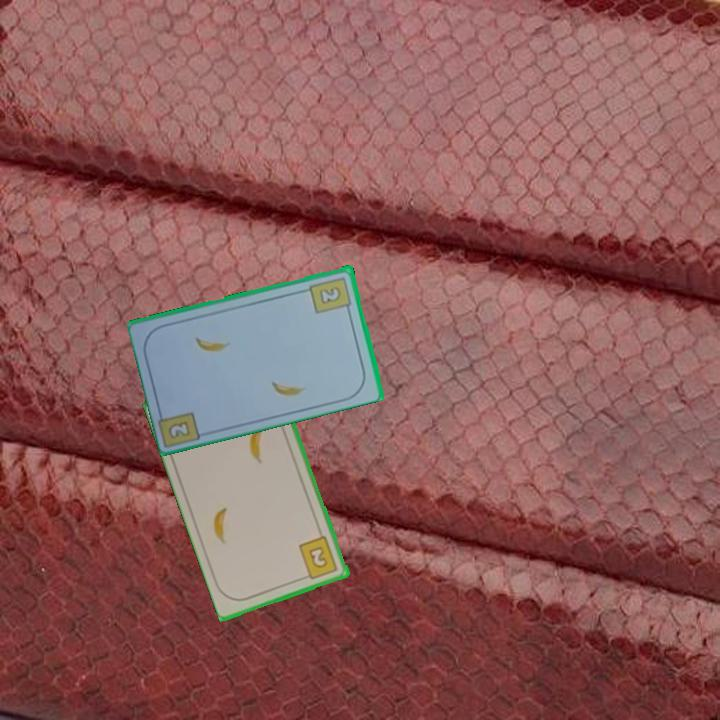2b: (295, 533, 341, 582), (307, 273, 354, 316), (165, 417, 193, 442)
